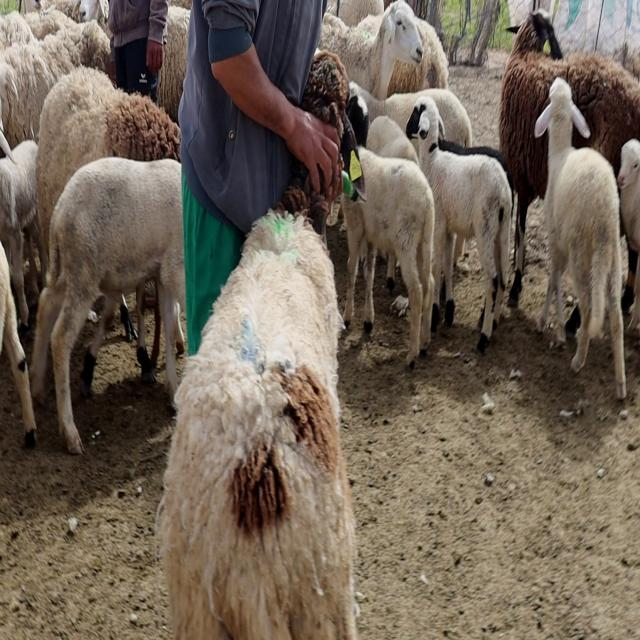Score_1: (157, 50, 365, 639)
